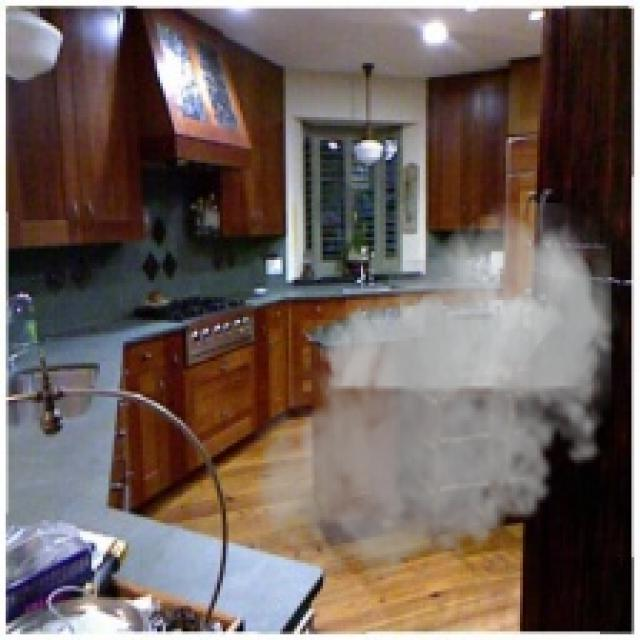smoke: (248, 203, 626, 594)
